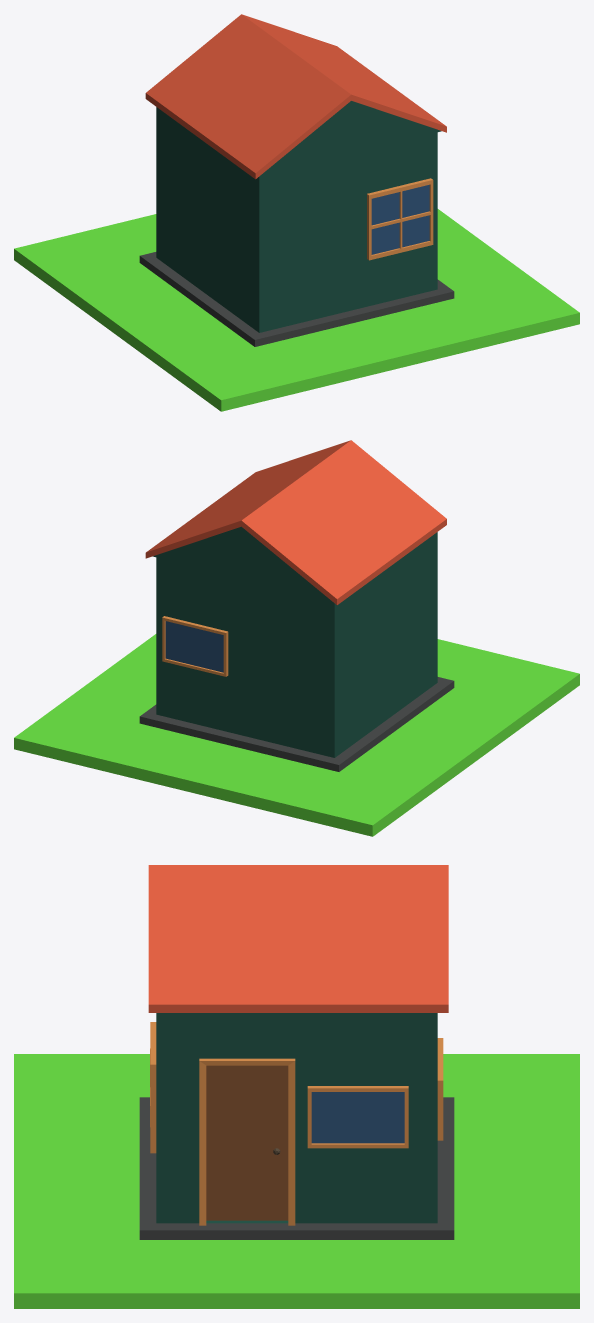
File: Building3.glb
The picture shows the model from 3 angles, top to bottom: view 1: azimuth 30°, elevation 25°; view 2: azimuth 150°, elevation 25°; view 3: azimuth 270°, elevation 25°; orthographic projection. The views are drawn at different scales.
Parts seen in each view (by area): view 1: Cube, Cube.002; view 2: Cube, Cube.002; view 3: Cube, Cube.002.
Part boxes in pixels (bbox=[...]): Cube: bbox=[139, 14, 454, 346]; Cube.002: bbox=[14, 209, 579, 411]; Cube: bbox=[139, 440, 454, 771]; Cube.002: bbox=[14, 634, 579, 836]; Cube: bbox=[139, 865, 454, 1239]; Cube.002: bbox=[14, 1054, 579, 1308].
Bounding box in the file's own units: 12 × 7.59 × 12.
